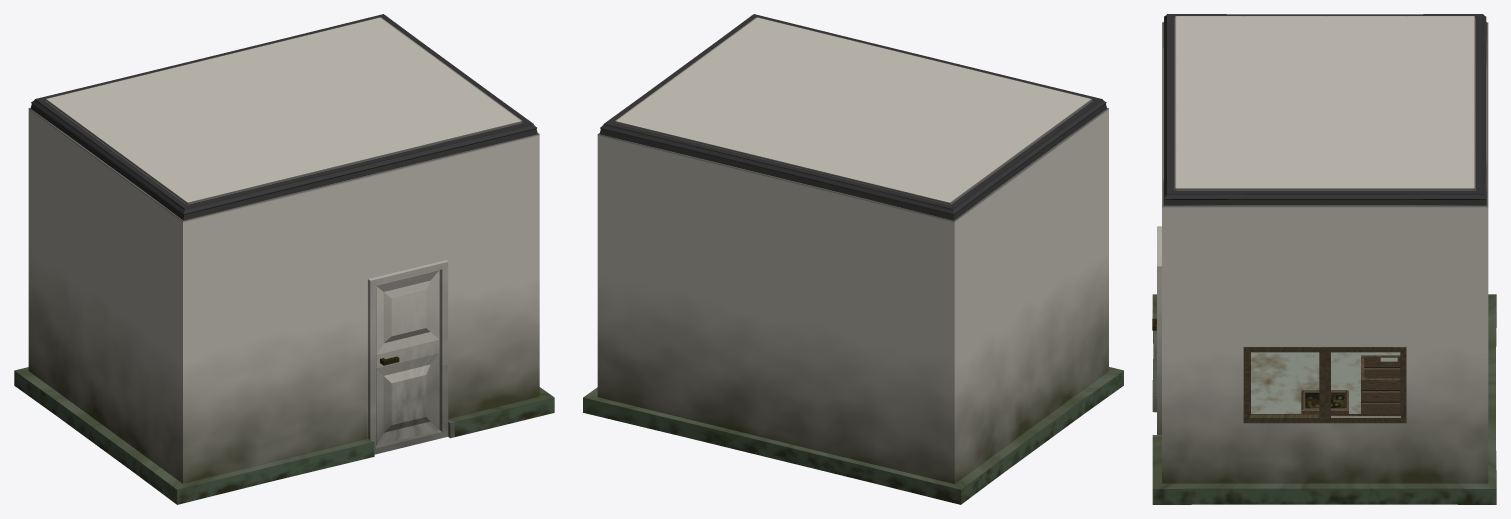
File: All Required.fbx
3 views of the same model, side by side, from view 1: azimuth 30°, elevation 25°; view 2: azimuth 150°, elevation 25°; view 3: azimuth 270°, elevation 25° (orthographic). The views are drawn at different scales.
Parts seen in each view (by area): view 1: Room, Door; view 2: Room; view 3: Room, Box, Frame.
Boxes of the visible parts, box(x1,y1,x2,y2) form: Room: box(14, 14, 554, 504); Door: box(376, 270, 439, 445); Room: box(583, 14, 1123, 504); Room: box(1152, 14, 1496, 504); Box: box(1361, 355, 1400, 413); Frame: box(1301, 390, 1348, 413).
Size of the model in its own units: 422 by 309 by 316.
